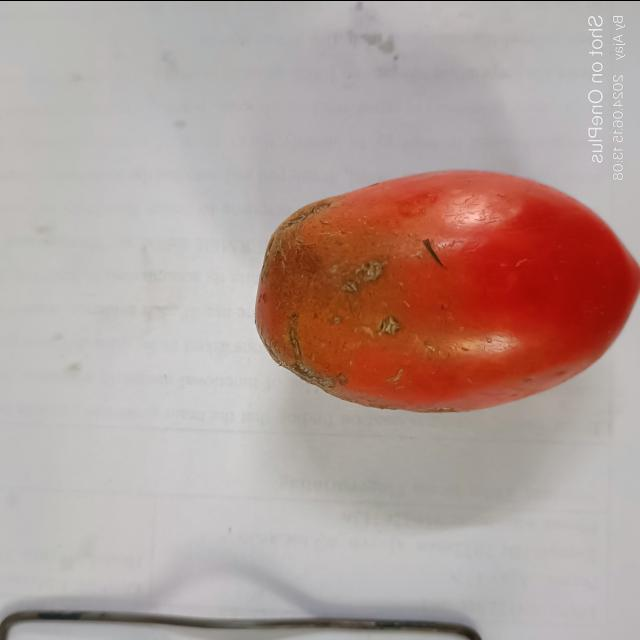Bacterial_Spot: (284, 314, 342, 388), (346, 255, 388, 292), (380, 312, 404, 340)
